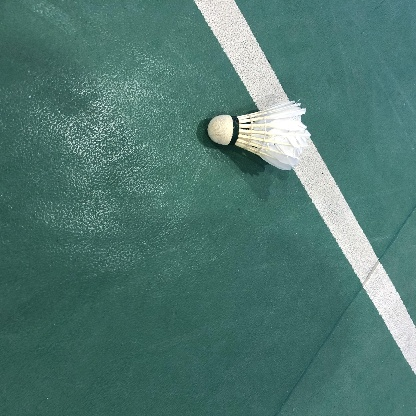ball_single: (207, 100, 311, 170)
